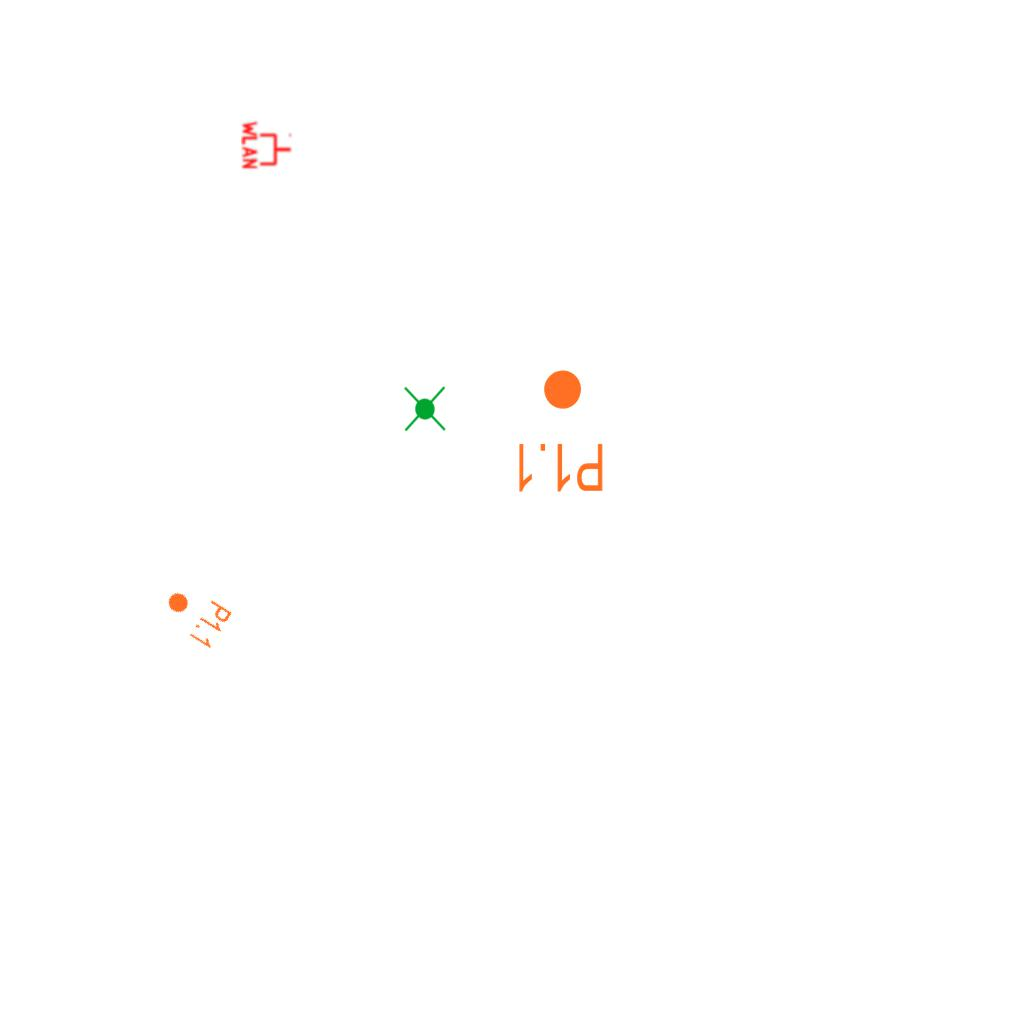Downlight_LED_Einbauleuchten_Flur_2: (513, 367, 606, 495), (155, 578, 235, 652)
Notlichtbaustein_in_Allgemeinbeleuchtug_engebaut_Einbau_(1UG_und_2UG_Aufbauvaria: (400, 384, 451, 434)
WLAN: (241, 119, 293, 171)
